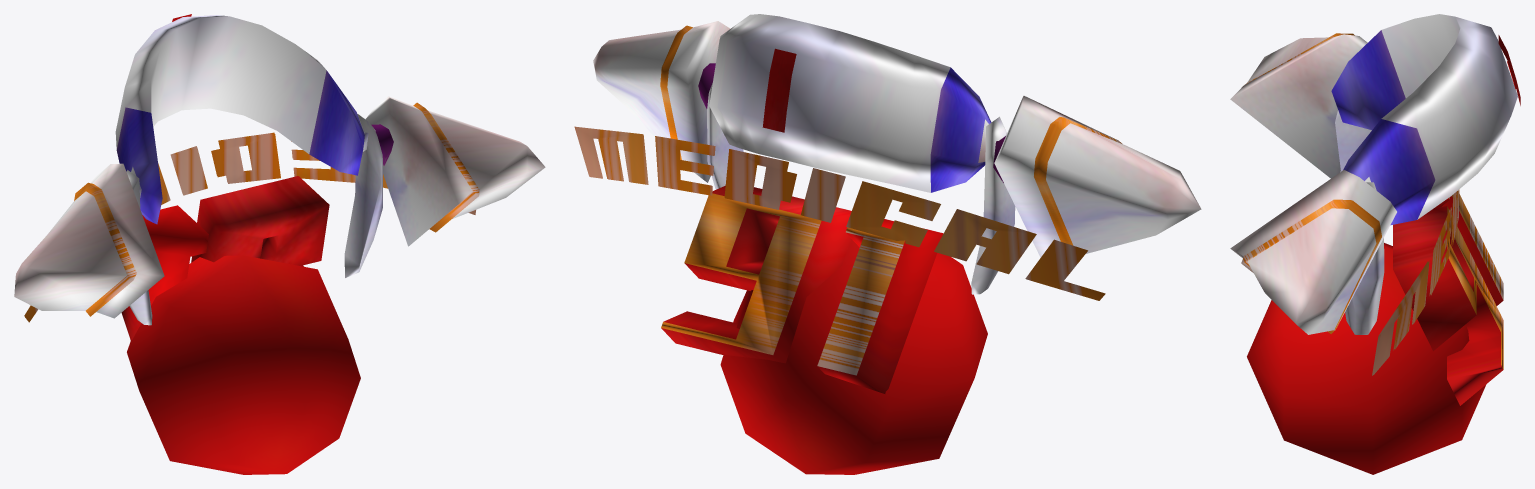
The model's file is medical.ico.obj.
3 views of the same model, side by side, from view 1: azimuth 30°, elevation 25°; view 2: azimuth 150°, elevation 25°; view 3: azimuth 270°, elevation 25° (orthographic). The views are drawn at different scales.
Size of the model in its own units: 4.81 by 3.69 by 2.19.
Materials: 1 (1 with a texture image).
